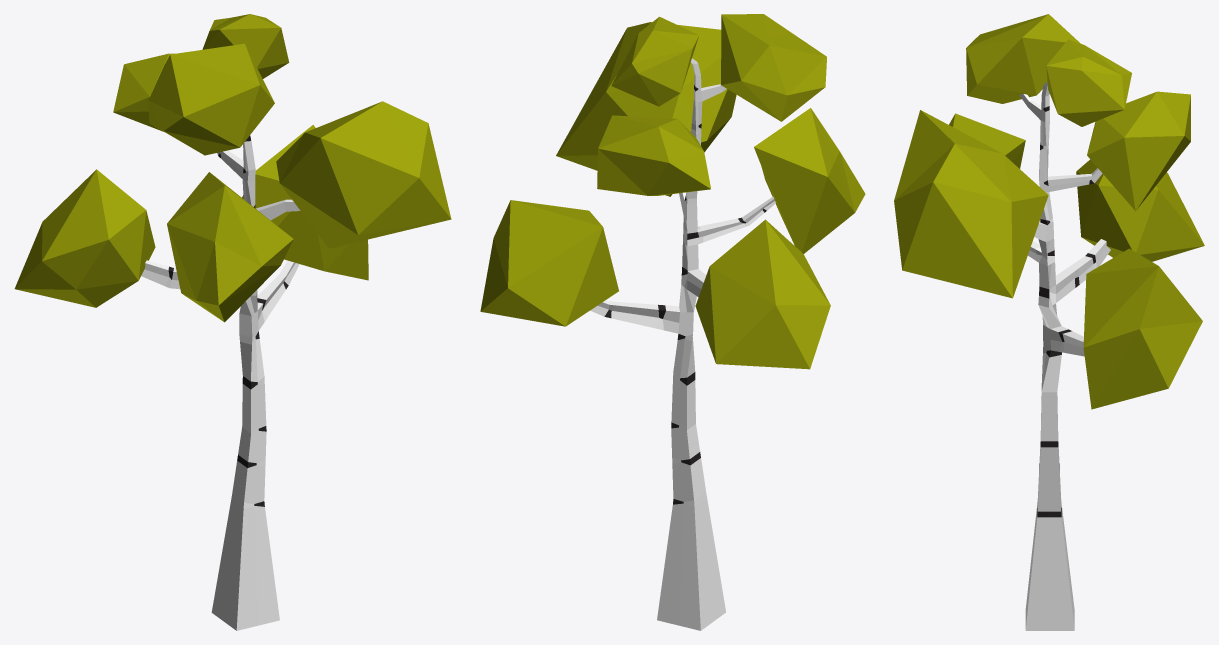
The model's file is birch-tree-green-0.gltf.
3 views of the same model, side by side, from view 1: azimuth 30°, elevation 25°; view 2: azimuth 150°, elevation 25°; view 3: azimuth 270°, elevation 25° (orthographic). The views are drawn at different scales.
Visible parts, largest first — view 1: Cube; view 2: Cube; view 3: Cube.
Boxes of the visible parts, x1,y1,x2,y2 form: Cube: (14,14,451,630); Cube: (480,14,865,630); Cube: (894,14,1204,630).
Size of the model in its own units: 15.5 by 26.58 by 13.01.
Materials: 1 (1 with a texture image).
